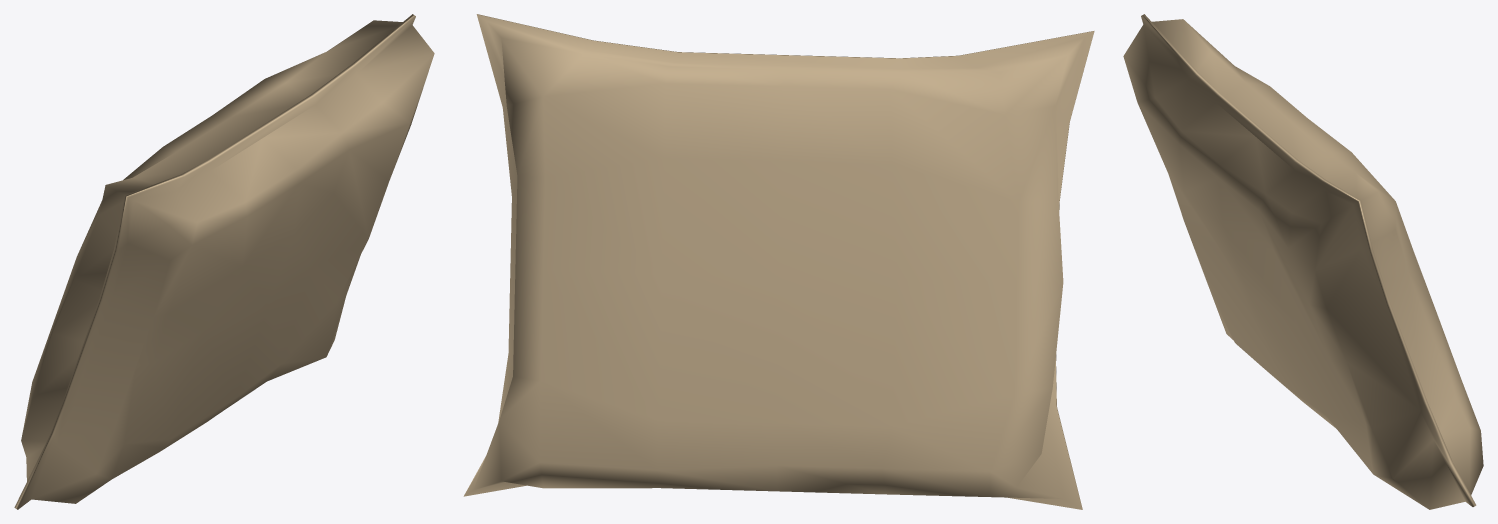
The model's file is kleine kussen.fbx.
The picture shows the model from 3 angles, left to right: view 1: azimuth 30°, elevation 25°; view 2: azimuth 150°, elevation 25°; view 3: azimuth 270°, elevation 25°; orthographic projection. The views are drawn at different scales.
Parts seen in each view (by area): view 1: Group1; view 2: Group1; view 3: Group1.
Boxes of the visible parts, x1,y1,x2,y2 form: Group1: (14,14,434,509); Group1: (463,14,1094,509); Group1: (1123,14,1483,509).
Bounding box in the file's own units: 330 × 243 × 239.
